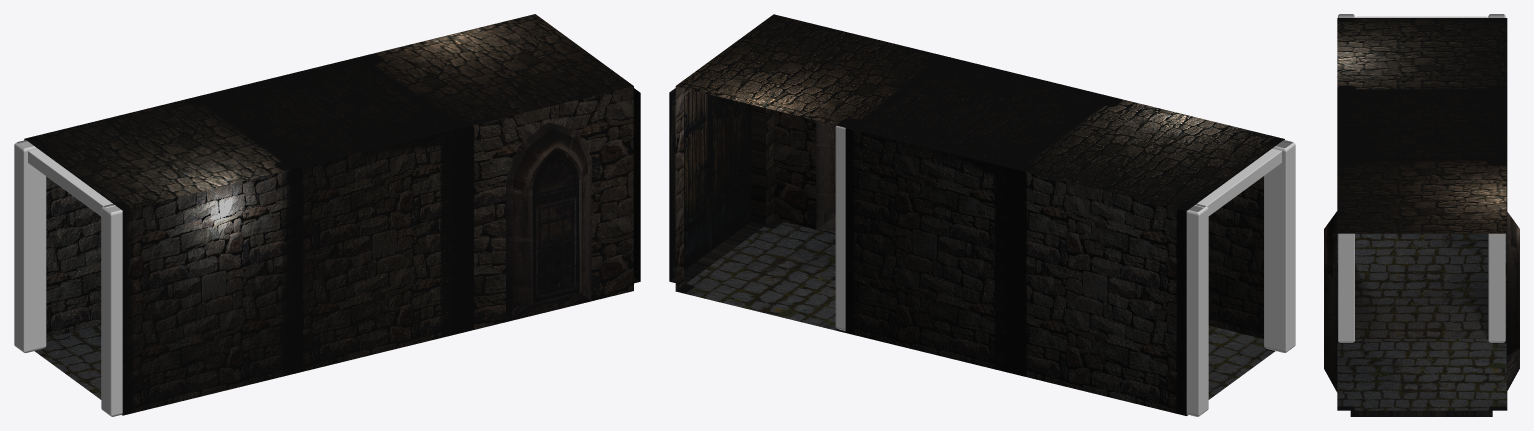
Rendered from corredor02.fbx.
3 renders of one model, left to right at view 1: azimuth 30°, elevation 25°; view 2: azimuth 150°, elevation 25°; view 3: azimuth 270°, elevation 25°, orthographic. The views are drawn at different scales.
Parts seen in each view (by area): view 1: castle_wall02, castle_ceiling02, castle_beam02, castle_floor02; view 2: castle_wall02, castle_ceiling02, castle_beam02, castle_floor02; view 3: castle_ceiling02, castle_floor02, castle_wall02, castle_beam02.
Part boxes in pixels (left/top/right/bottom): castle_wall02: left=24, top=86, right=640, bottom=415; castle_ceiling02: left=24, top=14, right=633, bottom=210; castle_beam02: left=14, top=140, right=122, bottom=416; castle_floor02: left=34, top=325, right=122, bottom=415; castle_wall02: left=669, top=86, right=1284, bottom=415; castle_ceiling02: left=676, top=14, right=1284, bottom=210; castle_beam02: left=835, top=125, right=1295, bottom=416; castle_floor02: left=675, top=219, right=1275, bottom=415; castle_ceiling02: left=1337, top=18, right=1507, bottom=233; castle_floor02: left=1337, top=233, right=1507, bottom=410; castle_wall02: left=1324, top=211, right=1519, bottom=416; castle_beam02: left=1338, top=14, right=1505, bottom=342.
Size of the model in its own units: 631 by 230 by 230.
